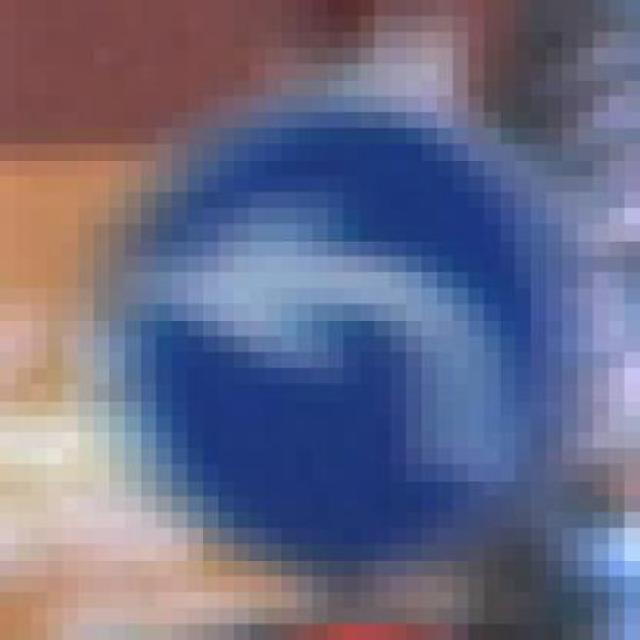Turn left ahead: (109, 96, 594, 609)
